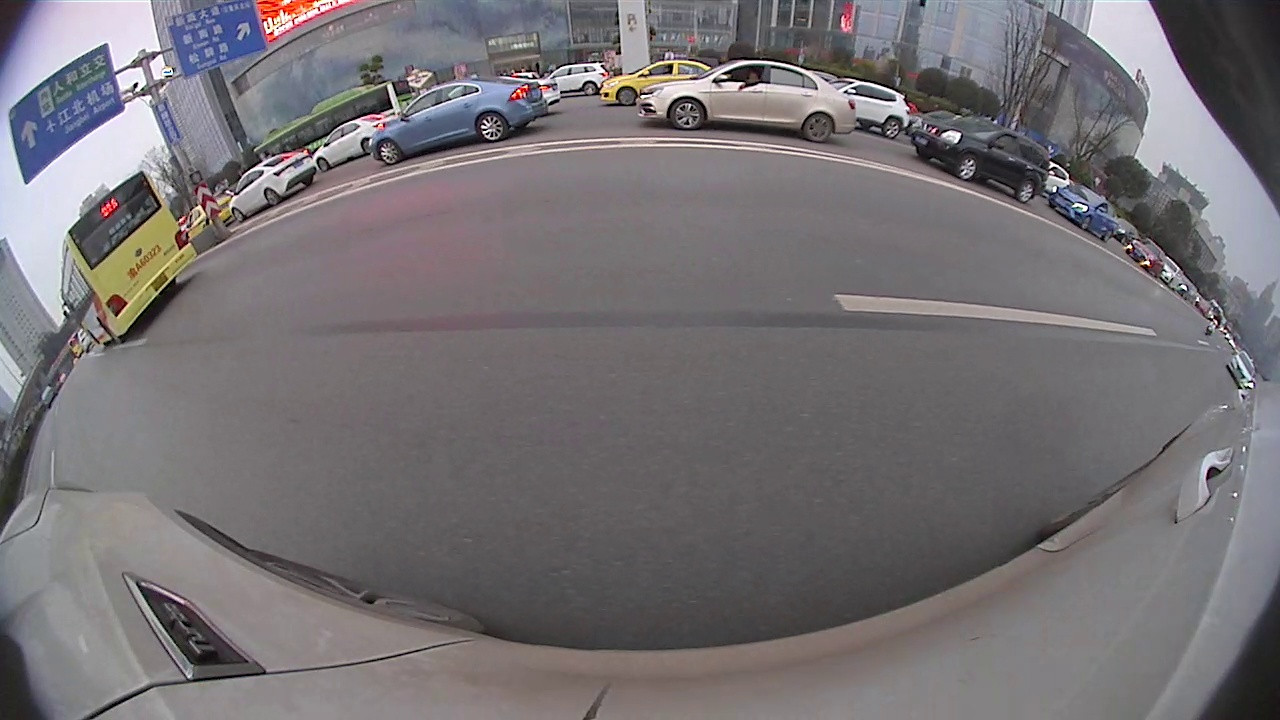bus: (58, 168, 198, 351)
car: (637, 58, 857, 145), (372, 78, 553, 166), (912, 115, 1050, 204), (596, 51, 722, 109), (228, 149, 316, 223), (827, 78, 913, 141), (313, 113, 394, 173), (1049, 181, 1120, 245), (545, 61, 610, 94), (508, 73, 560, 110)
front: (669, 95, 707, 132), (373, 138, 404, 169), (948, 154, 978, 181), (613, 84, 636, 107), (911, 147, 929, 166), (228, 208, 245, 226), (314, 158, 330, 177)
rear: (475, 107, 514, 143), (798, 109, 835, 146), (97, 314, 125, 346), (1014, 182, 1036, 206), (878, 117, 901, 139), (263, 188, 281, 212), (361, 135, 374, 157)
